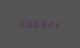eight: (39, 20, 45, 28)
two: (17, 20, 23, 28), (46, 20, 52, 28), (53, 20, 59, 28)
zero: (24, 20, 30, 28), (32, 20, 38, 28)
